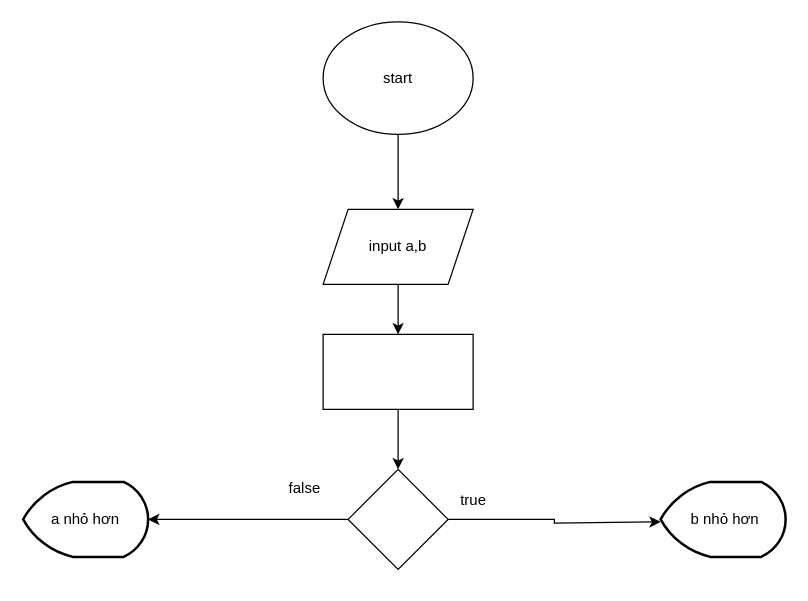
The diagram is 808 pixels wide and 601 high, and some of its shapes have lost their labels. The box of each missing label's shape, as (x1, y1, x2, y2) in pixels:
a - b = c: (322, 333, 473, 409)
c > 0: (347, 468, 448, 569)
